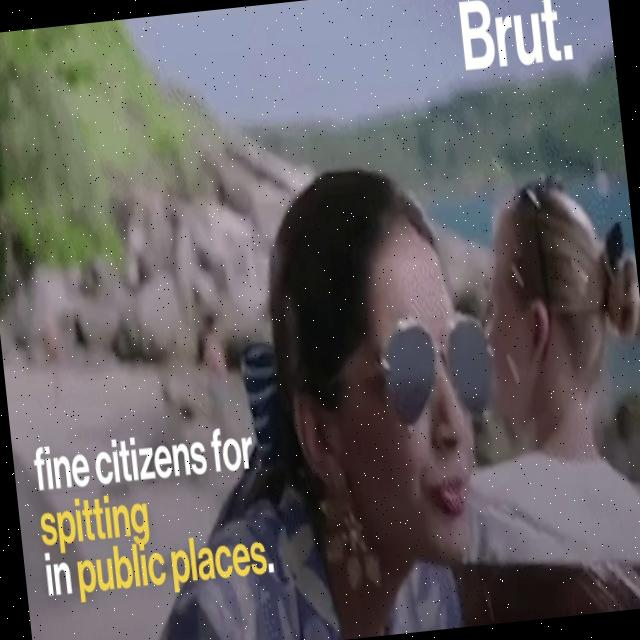spit: (421, 425, 640, 620)
